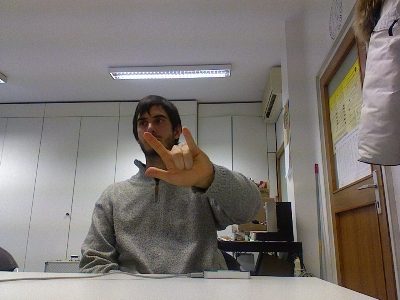我爱你: (140, 124, 214, 188)
